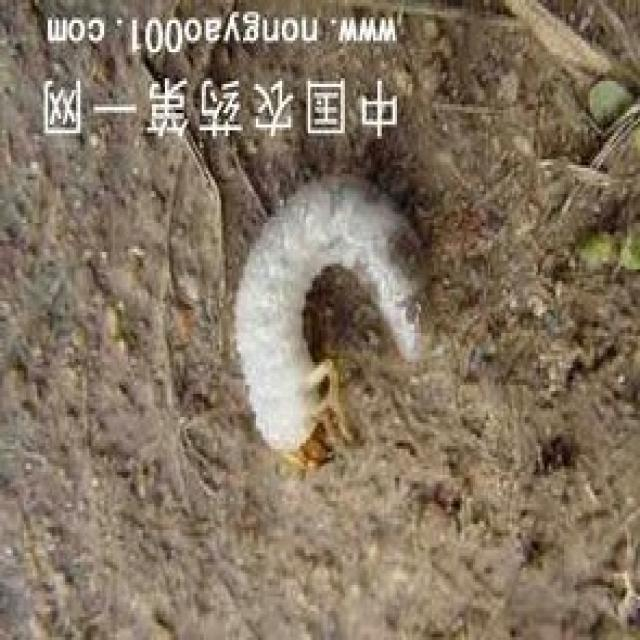grub: (226, 175, 441, 476)
